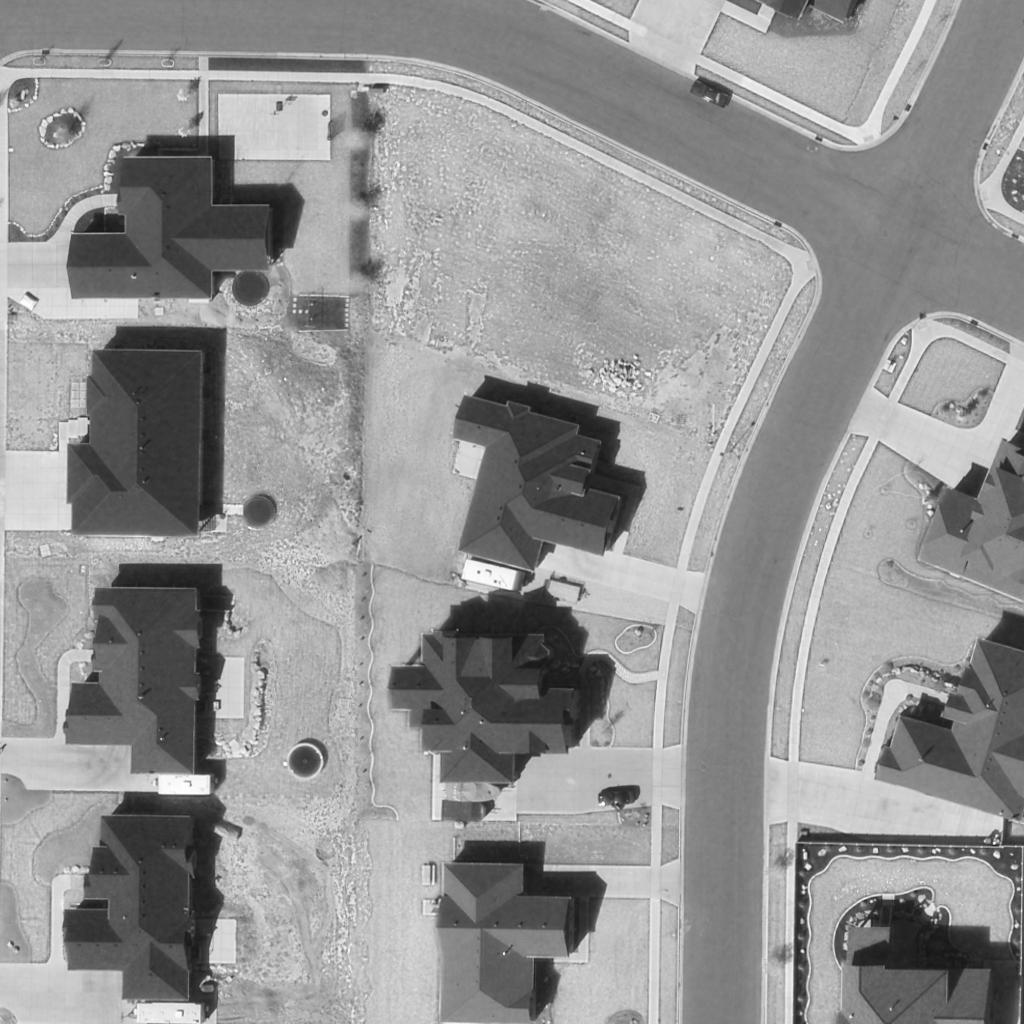vehicle: (459, 558, 529, 596), (151, 773, 221, 795), (132, 1003, 208, 1023), (690, 81, 732, 109), (597, 790, 639, 806)
